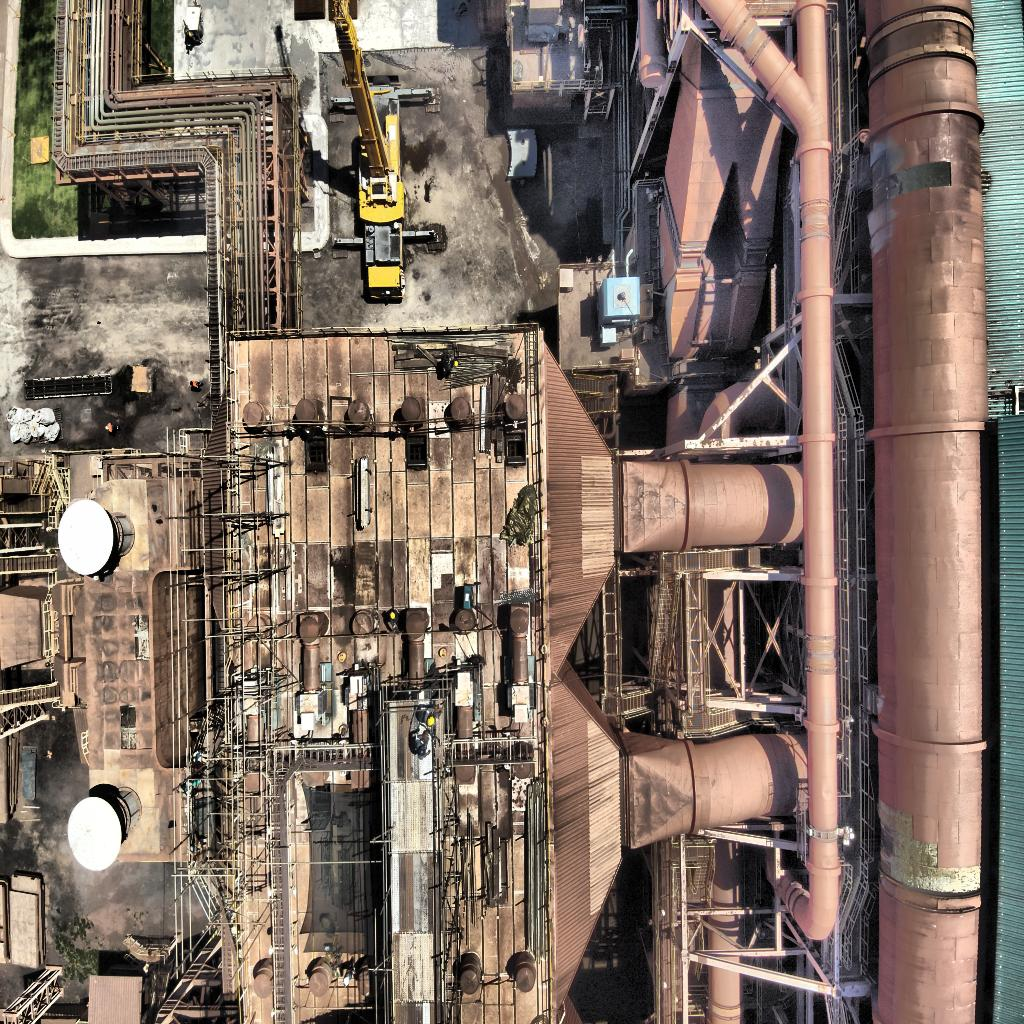Failures: (878, 796, 995, 895), (869, 160, 953, 192), (864, 188, 897, 260)
